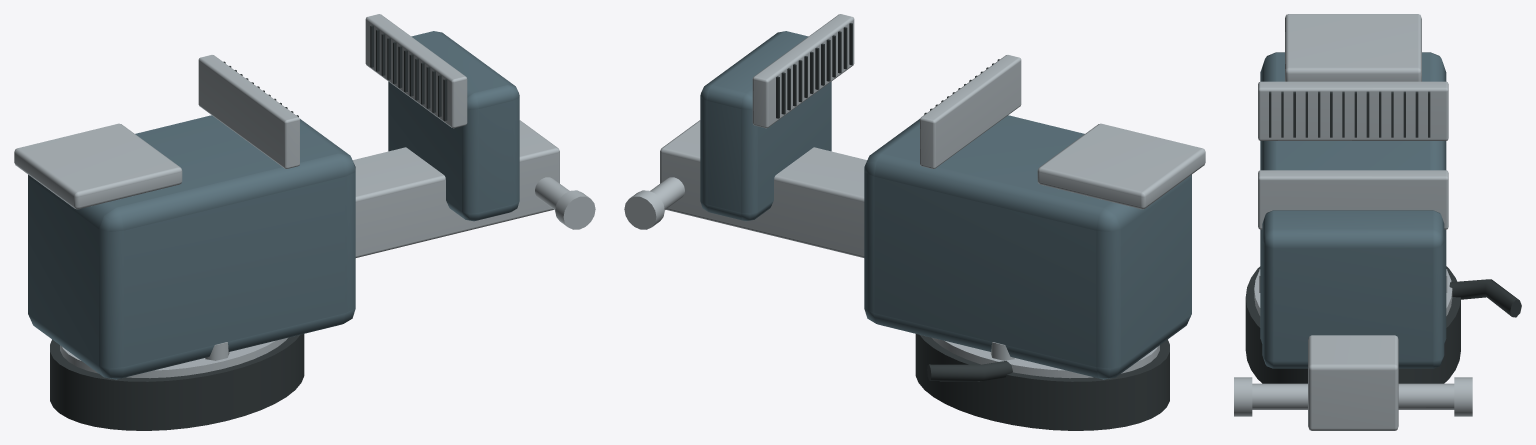
File: garage-bench-vise.glb
The picture shows the model from 3 angles, left to right: view 1: azimuth 30°, elevation 25°; view 2: azimuth 150°, elevation 25°; view 3: azimuth 270°, elevation 25°; orthographic projection. The views are drawn at different scales.
Parts seen in each view (by area): view 1: garage-bench-vise authored assembly; view 2: garage-bench-vise authored assembly; view 3: garage-bench-vise authored assembly.
Part boxes in pixels (x1,y1,x2,y2): garage-bench-vise authored assembly: [14, 14, 595, 430]; garage-bench-vise authored assembly: [624, 14, 1205, 430]; garage-bench-vise authored assembly: [1234, 14, 1521, 430].
Bounding box in the file's own units: 0.39 × 0.21 × 0.18.
